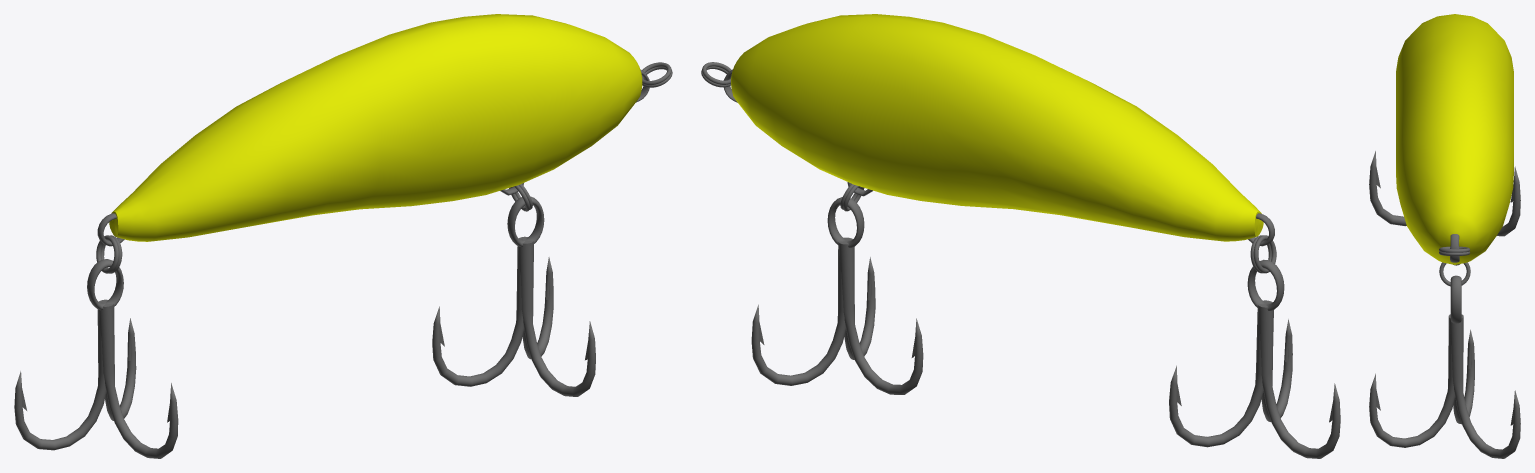
File: Float Lure.glb
The picture shows the model from 3 angles, left to right: view 1: azimuth 30°, elevation 25°; view 2: azimuth 150°, elevation 25°; view 3: azimuth 270°, elevation 25°; orthographic projection. The views are drawn at different scales.
Visible parts, largest first — view 1: Top Bait, Hooks; view 2: Top Bait, Hooks; view 3: Top Bait, Hooks.
Part boxes in pixels (left/top/right/bottom): Top Bait: left=109, top=14, right=642, bottom=241; Hooks: left=14, top=62, right=672, bottom=458; Top Bait: left=731, top=14, right=1263, bottom=241; Hooks: left=701, top=62, right=1340, bottom=458; Top Bait: left=1396, top=14, right=1513, bottom=264; Hooks: left=1369, top=151, right=1520, bottom=458.
Size of the model in its own units: 1.05 by 0.5805 by 0.2341.
